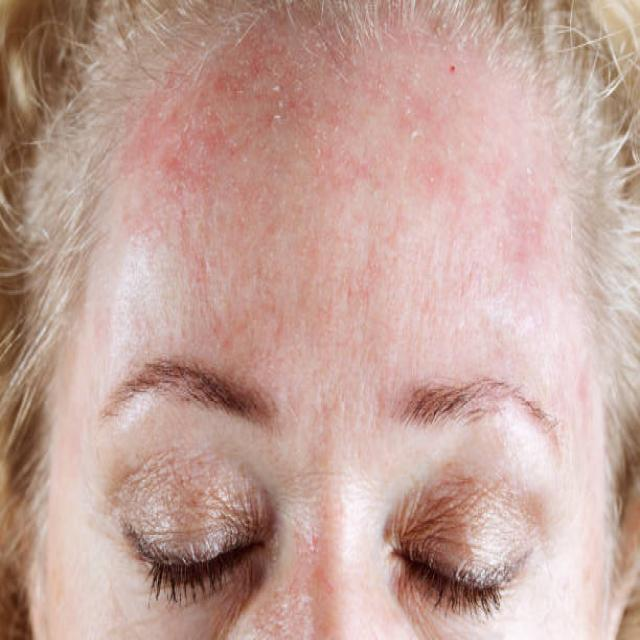Dry-Skin: (98, 188, 228, 426), (121, 417, 325, 561), (434, 436, 578, 620), (312, 31, 473, 192), (299, 342, 437, 521), (171, 127, 331, 277), (483, 16, 616, 180), (467, 206, 564, 430), (156, 0, 314, 115), (340, 148, 434, 267), (497, 176, 600, 202)
